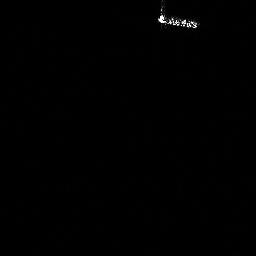ship: (155, 3, 200, 30)
